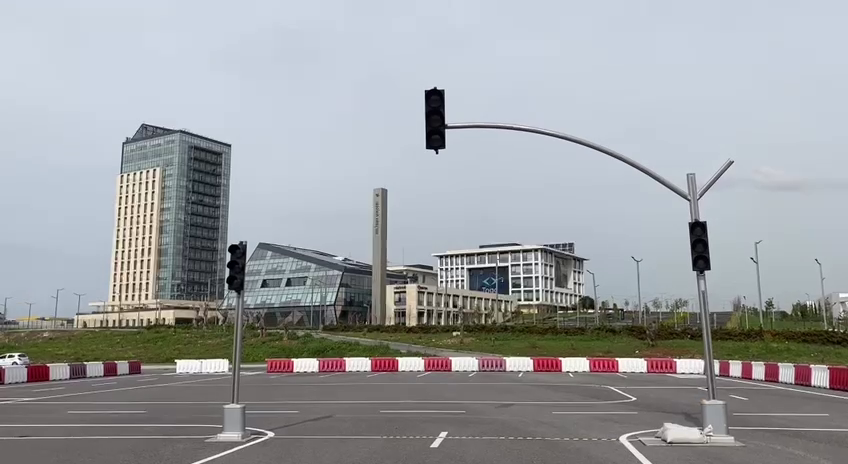trafficLight: (420, 83, 450, 157), (684, 217, 715, 276), (224, 239, 249, 296)
